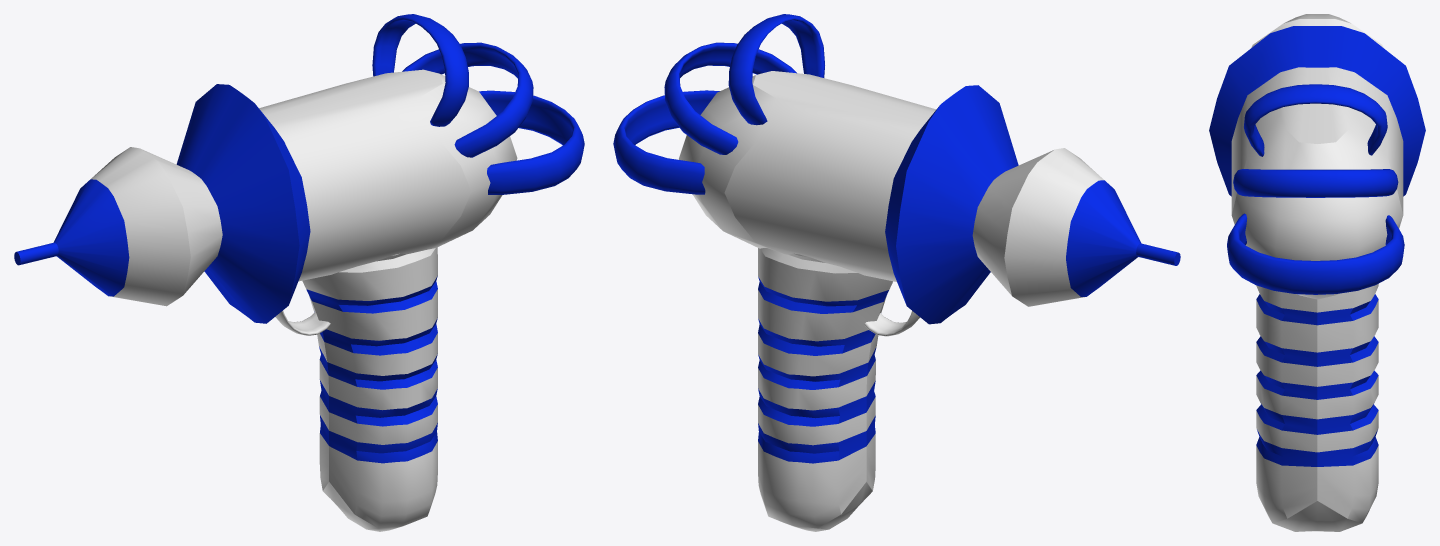
Rendered from handGun.fbx.
The picture shows the model from 3 angles, left to right: view 1: azimuth 30°, elevation 25°; view 2: azimuth 150°, elevation 25°; view 3: azimuth 270°, elevation 25°; orthographic projection. The views are drawn at different scales.
Parts seen in each view (by area): view 1: pistol; view 2: pistol; view 3: pistol.
Part boxes in pixels (bbox=[...]): pistol: bbox=[14, 14, 584, 531]; pistol: bbox=[613, 14, 1180, 531]; pistol: bbox=[1209, 14, 1425, 531].
Size of the model in its own units: 24.69 by 20.79 by 8.85.
